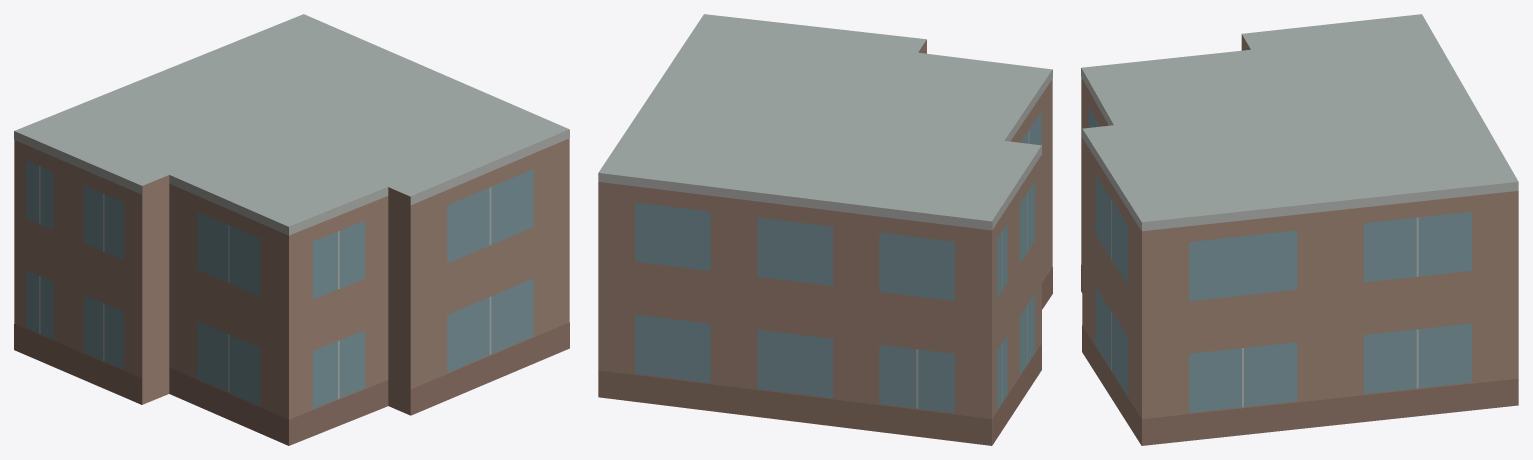
Rendered from survey-upis-32751957.glb.
3 renders of one model, left to right at view 1: azimuth 30°, elevation 25°; view 2: azimuth 150°, elevation 25°; view 3: azimuth 270°, elevation 25°, orthographic. The views are drawn at different scales.
Parts seen in each view (by area): view 1: survey-upis-32751957.tmp; view 2: survey-upis-32751957.tmp; view 3: survey-upis-32751957.tmp.
Boxes of the visible parts, x1,y1,x2,y2 form: survey-upis-32751957.tmp: (14, 14, 569, 445); survey-upis-32751957.tmp: (598, 14, 1052, 445); survey-upis-32751957.tmp: (1081, 14, 1518, 445).
Size of the model in its own units: 12.21 by 6.1 by 10.83.
